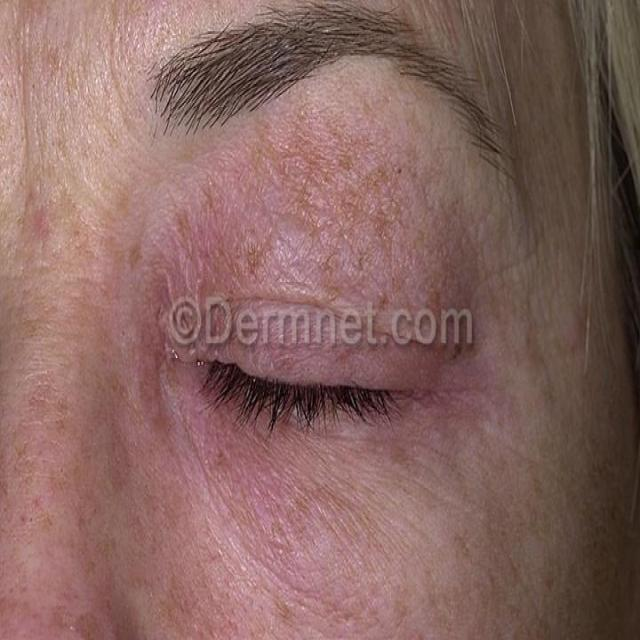Eczema: (141, 112, 497, 592)
